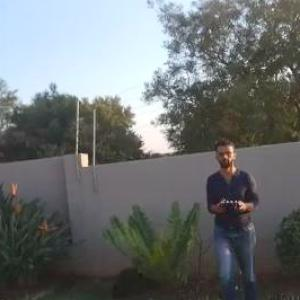follow: (199, 137, 265, 299)
